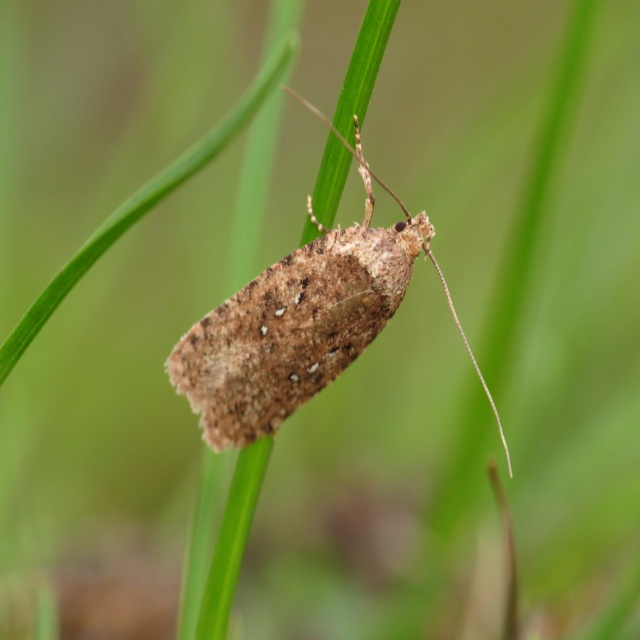Moths and butterflies: (163, 82, 516, 481)
